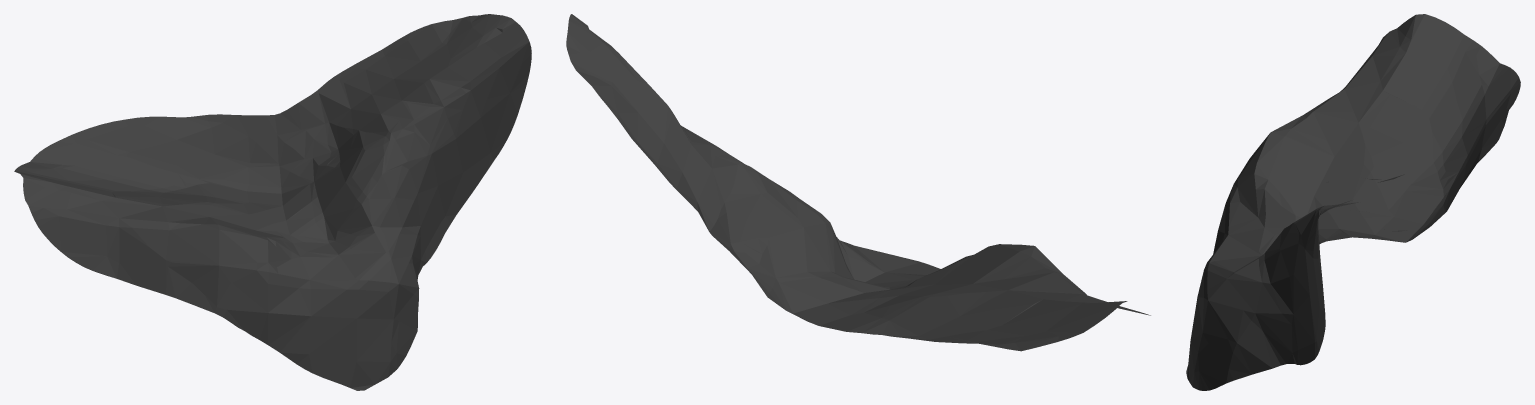
File: canine_kidney_renal_pelvis.glb
3 renders of one model, left to right at view 1: azimuth 30°, elevation 25°; view 2: azimuth 150°, elevation 25°; view 3: azimuth 270°, elevation 25°, orthographic. The views are drawn at different scales.
Visible parts, largest first — view 1: canine_kidney_renal_pelvis; view 2: canine_kidney_renal_pelvis; view 3: canine_kidney_renal_pelvis.
Boxes of the visible parts, box(x1,y1,x2,y2) form: canine_kidney_renal_pelvis: box(14, 14, 531, 390); canine_kidney_renal_pelvis: box(566, 14, 1150, 351); canine_kidney_renal_pelvis: box(1186, 14, 1520, 390).
Bounding box in the file's own units: 0.0541 × 0.0301 × 0.0289.
1 material, 1 textured.
